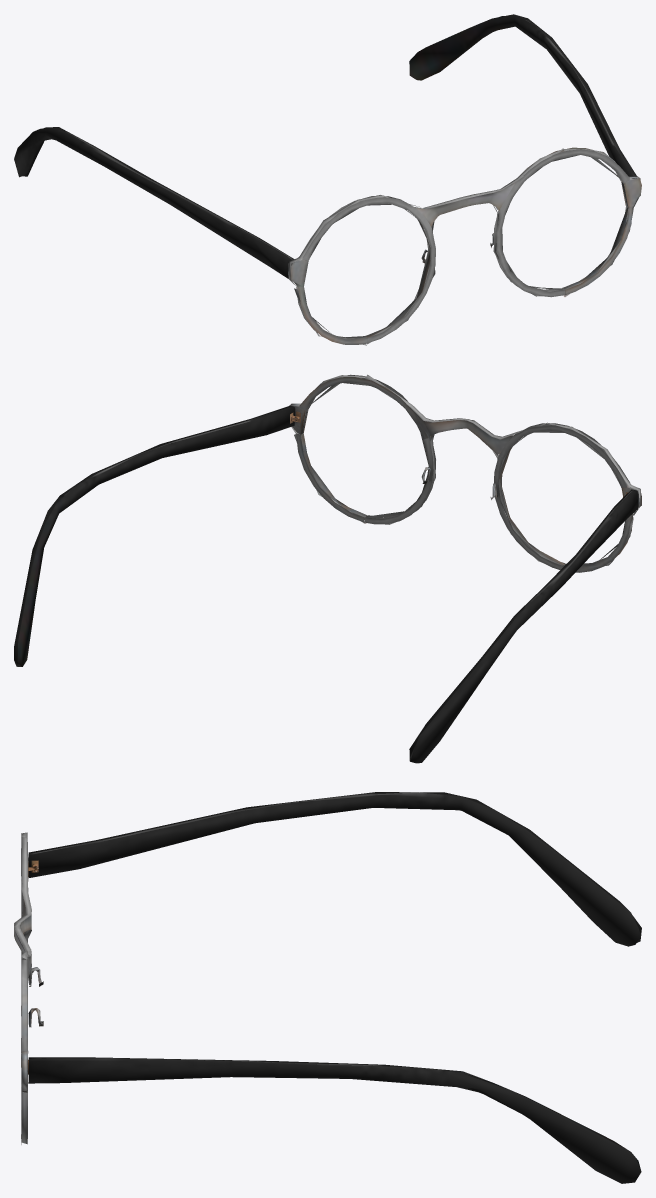
Rendered from spectacles.glb.
The picture shows the model from 3 angles, top to bottom: view 1: azimuth 30°, elevation 25°; view 2: azimuth 150°, elevation 25°; view 3: azimuth 270°, elevation 25°; orthographic projection. The views are drawn at different scales.
Visible parts, largest first — view 1: round_spectacles; view 2: round_spectacles; view 3: round_spectacles.
Part boxes in pixels (<box>): round_spectacles: <box>14,14,641,345</box>; round_spectacles: <box>14,374,641,763</box>; round_spectacles: <box>14,792,641,1183</box>.
Bounding box in the file's own units: 0.1577 × 0.0478 × 0.1491.
1 material, 1 textured.
